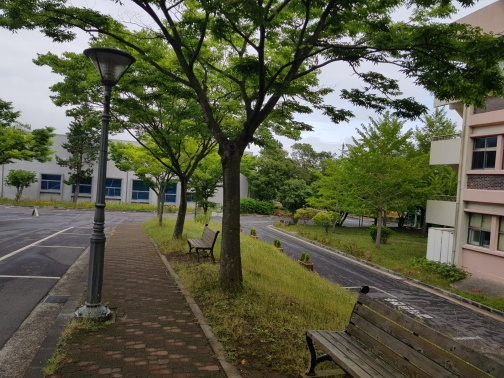College of Social Sciences: (6, 124, 220, 221)
